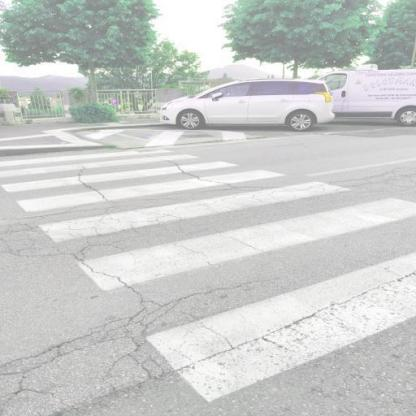crosswalk: (0, 167, 353, 246)
